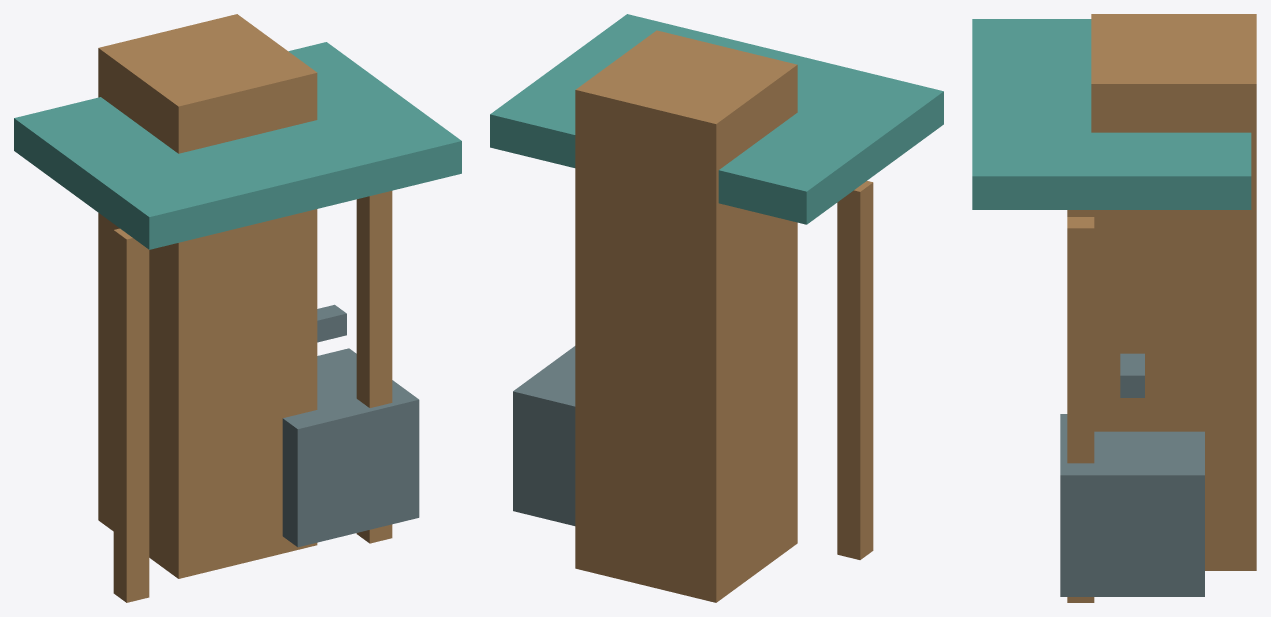
Rendered from SapCollector.glb.
3 views of the same model, side by side, from view 1: azimuth 30°, elevation 25°; view 2: azimuth 150°, elevation 25°; view 3: azimuth 270°, elevation 25° (orthographic). The views are drawn at different scales.
Parts seen in each view (by area): view 1: hand-pump-static-sap-bark, hand-pump-static-sap-roof, hand-pump-static-sap-timber, hand-pump-static-sap-metal; view 2: hand-pump-static-sap-bark, hand-pump-static-sap-roof, hand-pump-static-sap-timber, hand-pump-static-sap-metal; view 3: hand-pump-static-sap-bark, hand-pump-static-sap-roof, hand-pump-static-sap-metal, hand-pump-static-sap-timber.
Part boxes in pixels (<box>): hand-pump-static-sap-bark: <box>98,14,317,578</box>; hand-pump-static-sap-roof: <box>14,42,461,249</box>; hand-pump-static-sap-timber: <box>113,191,392,602</box>; hand-pump-static-sap-metal: <box>282,304,419,547</box>; hand-pump-static-sap-bark: <box>575,30,797,602</box>; hand-pump-static-sap-roof: <box>490,14,943,224</box>; hand-pump-static-sap-timber: <box>837,181,873,559</box>; hand-pump-static-sap-metal: <box>513,346,575,525</box>; hand-pump-static-sap-bark: <box>1091,14,1256,570</box>; hand-pump-static-sap-roof: <box>972,19,1251,209</box>; hand-pump-static-sap-metal: <box>1060,353,1204,596</box>; hand-pump-static-sap-timber: <box>1067,210,1094,602</box>.
Size of the model in its own units: 1.8 by 2.6 by 1.38.
